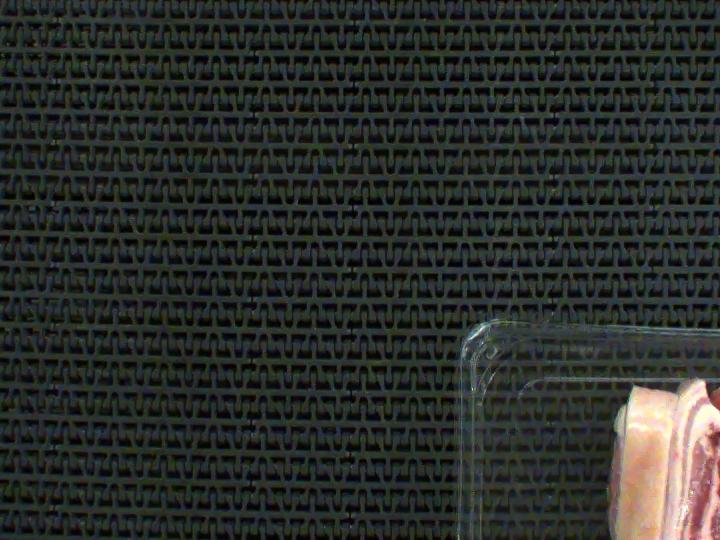twisted-meat: (600, 377, 682, 540)
